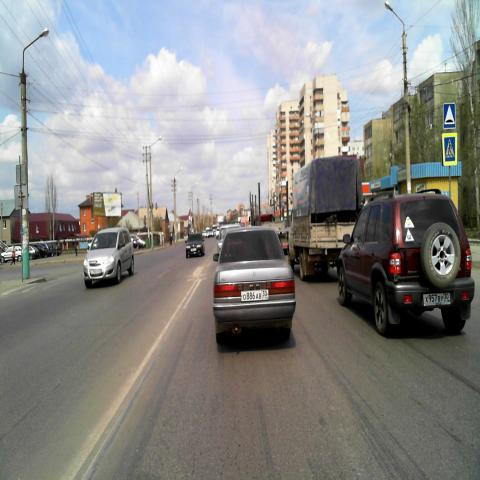5_19_1: (442, 133, 458, 167)
5_20: (442, 101, 456, 130)
